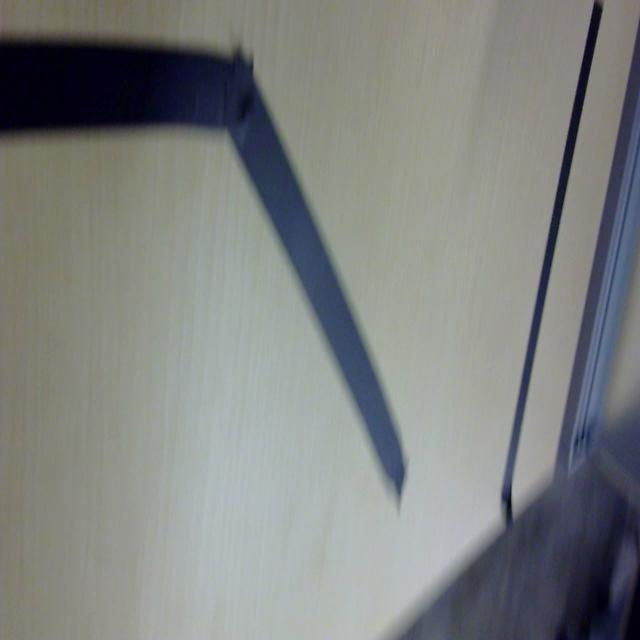tape: (0, 35, 408, 504), (500, 0, 603, 527)
